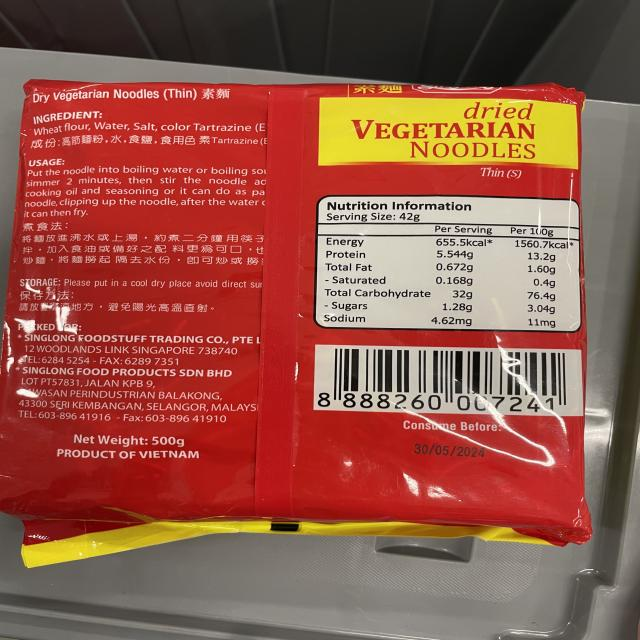object_name: (23, 84, 576, 538)
